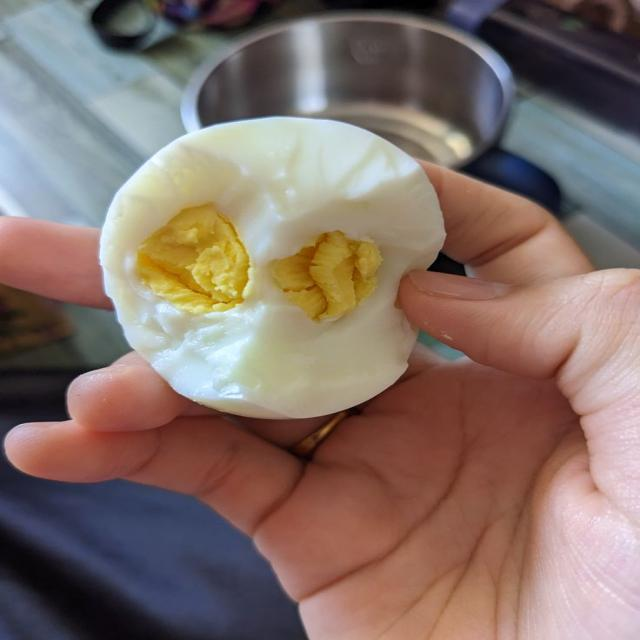egg boiled: (100, 118, 444, 417)
